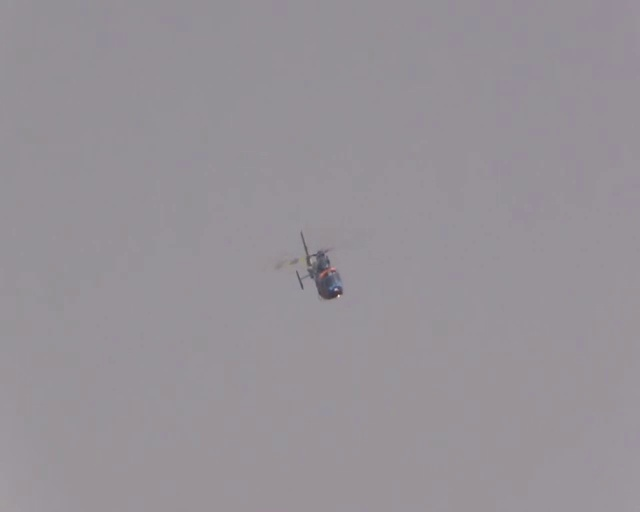HELICOPTER: (275, 229, 344, 300)
